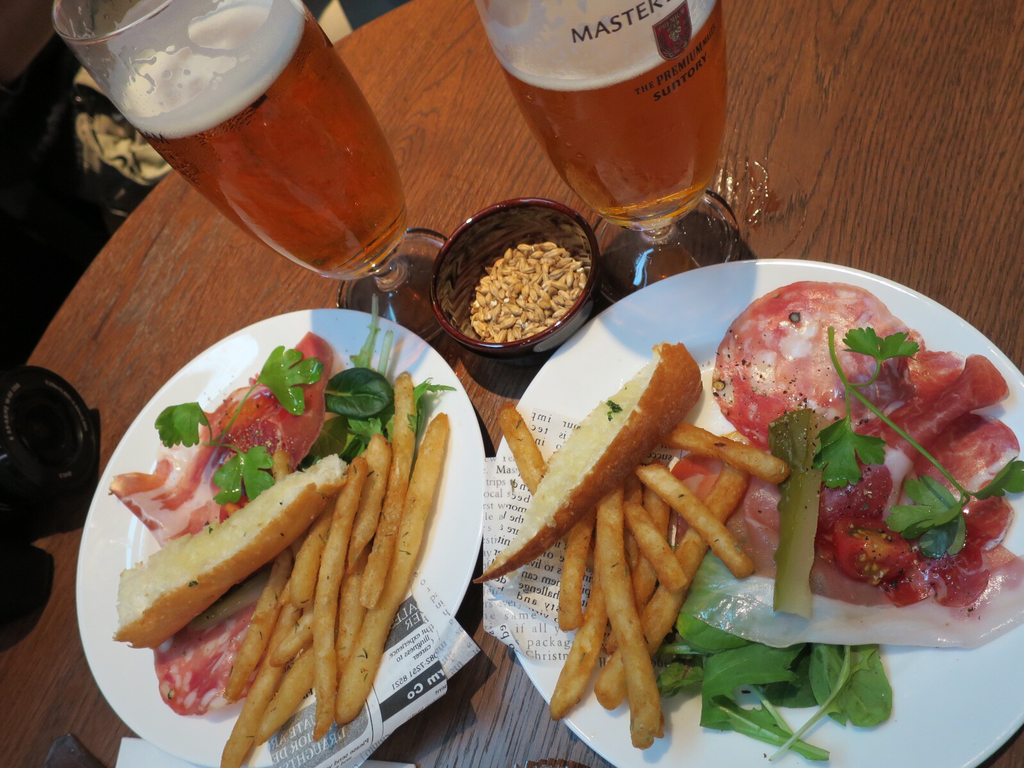French fries: (214, 364, 452, 767), (543, 421, 787, 751)
